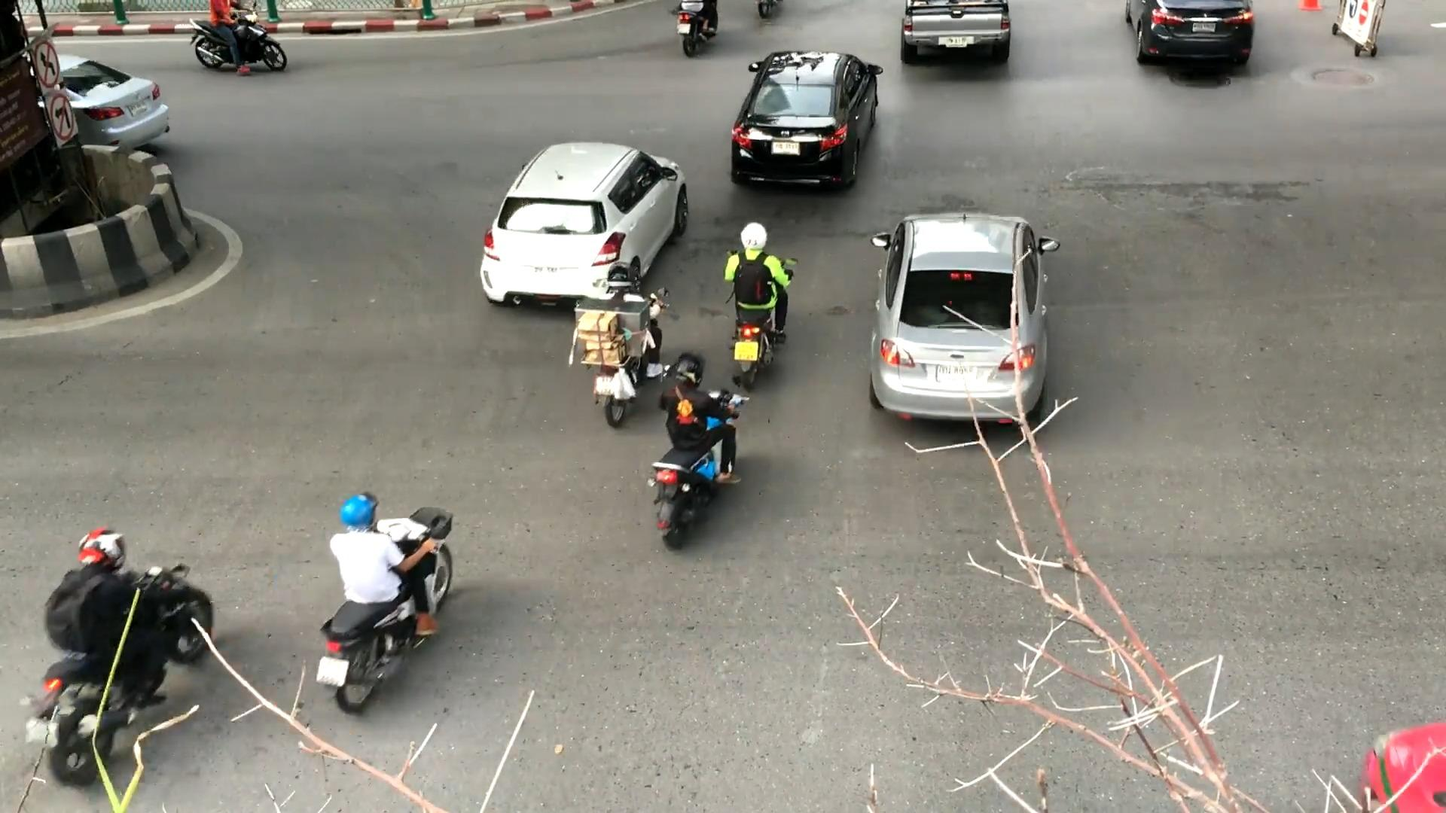driver: (19, 528, 213, 789), (316, 493, 454, 715), (647, 351, 749, 549), (575, 261, 671, 428), (723, 223, 799, 394), (189, 0, 287, 74)
helmet: (77, 528, 127, 574), (339, 492, 379, 528), (676, 351, 704, 388), (608, 262, 636, 294), (740, 222, 768, 250)
